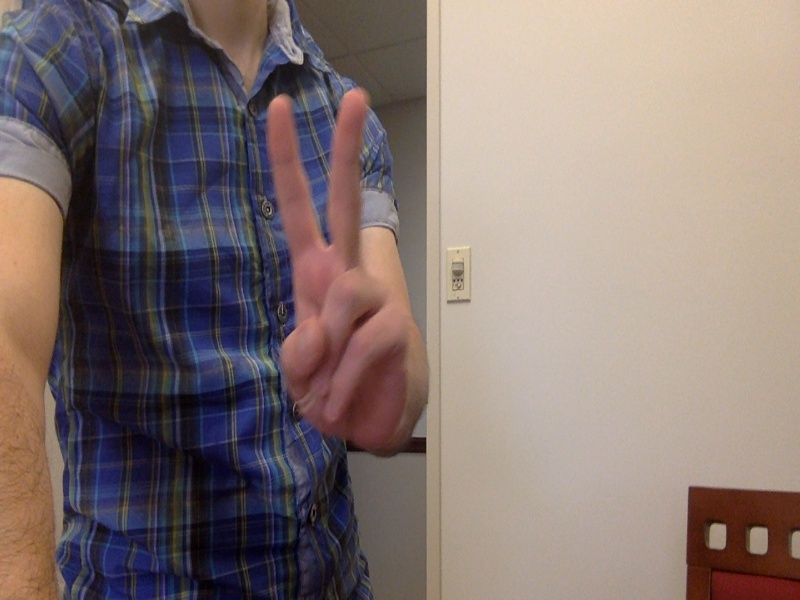2-hand: (259, 90, 403, 445)
